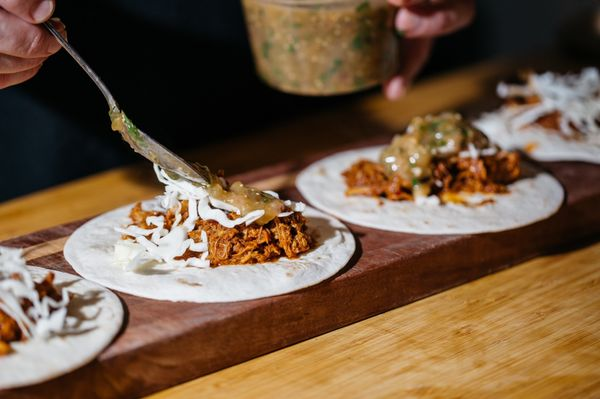curry: (3, 46, 599, 390)
